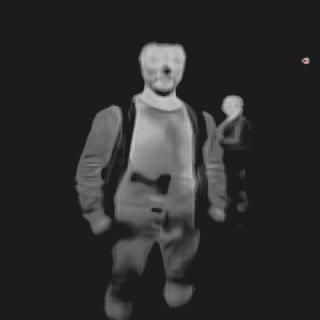Gun: (129, 171, 172, 213)
